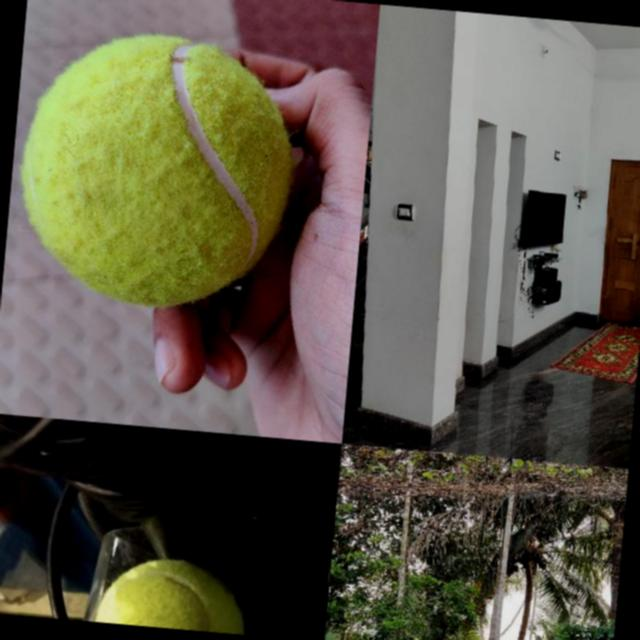tennis-ball: (7, 21, 304, 320), (92, 550, 254, 634), (414, 638, 419, 640)
